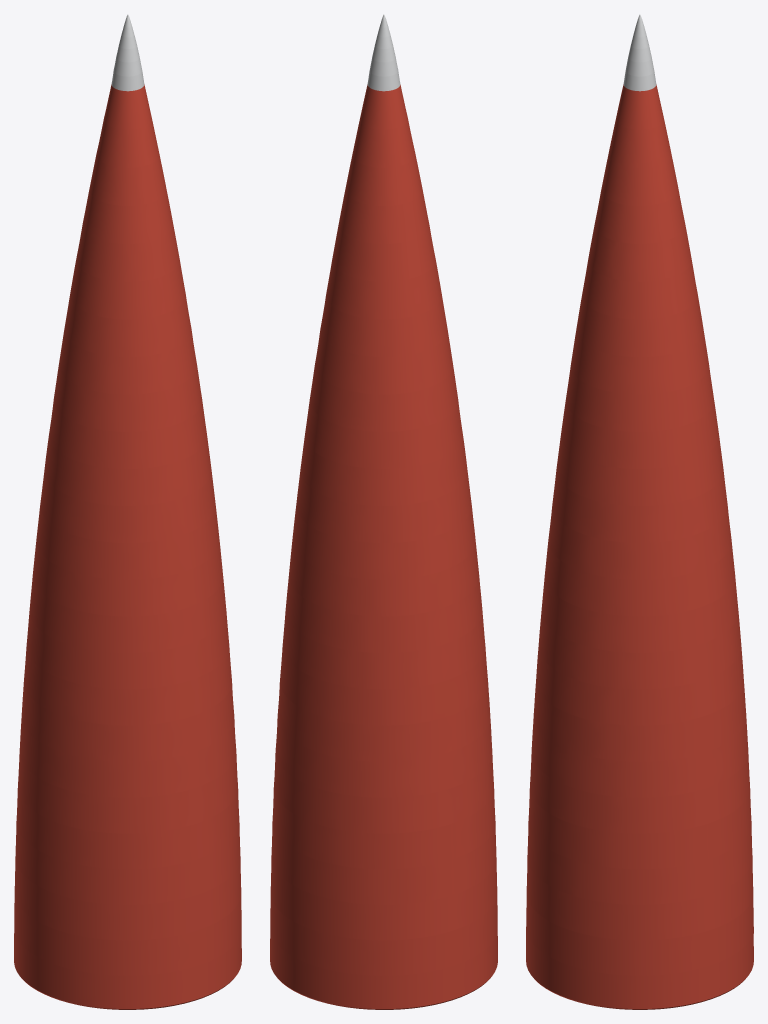
Rendered from nose-cone.glb.
3 views of the same model, side by side, from view 1: azimuth 30°, elevation 25°; view 2: azimuth 150°, elevation 25°; view 3: azimuth 270°, elevation 25° (orthographic).
Parts seen in each view (by area): view 1: nose_cone; view 2: nose_cone; view 3: nose_cone.
Part boxes in pixels (x1,y1,x2,y2): nose_cone: (14, 14, 241, 1009); nose_cone: (270, 14, 497, 1009); nose_cone: (526, 14, 753, 1009).
Bounding box in the file's own units: 0.098 × 0.4497 × 0.098.
